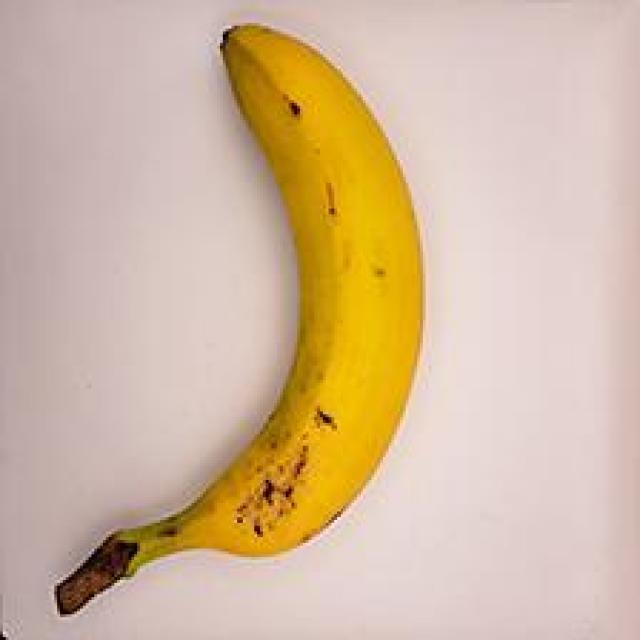ripe: (48, 21, 434, 609)
